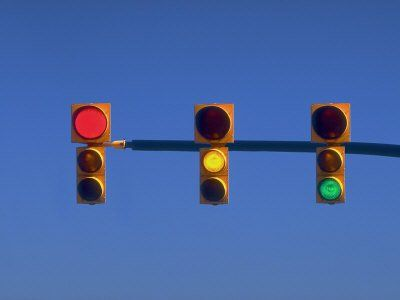trafficlight_green: (313, 103, 349, 202)
trafficlight_red: (72, 104, 108, 203)
